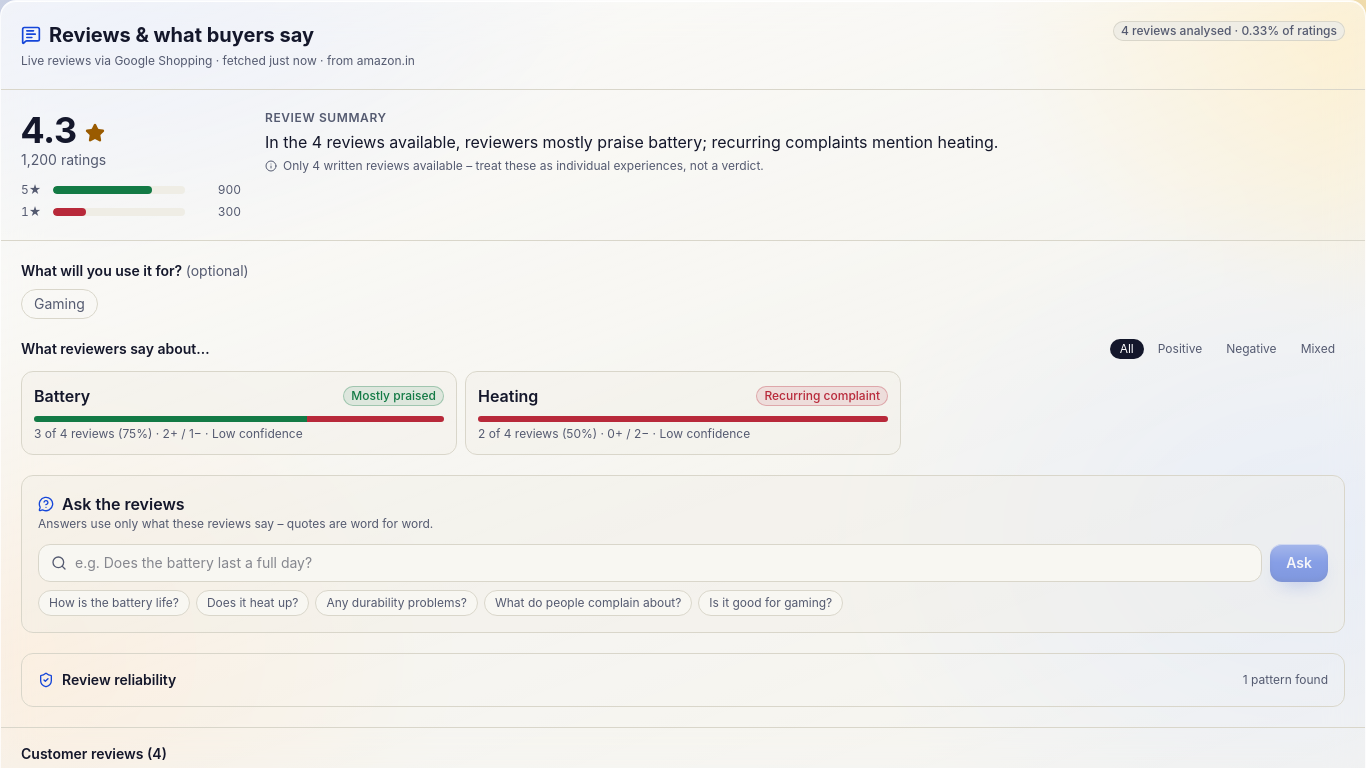
Test: ReviewsSection › puts use-case aspects first with the reason, without hiding the rest
Click the radio button labelled "Gaming" at (59, 304), box [21,289,98,319]
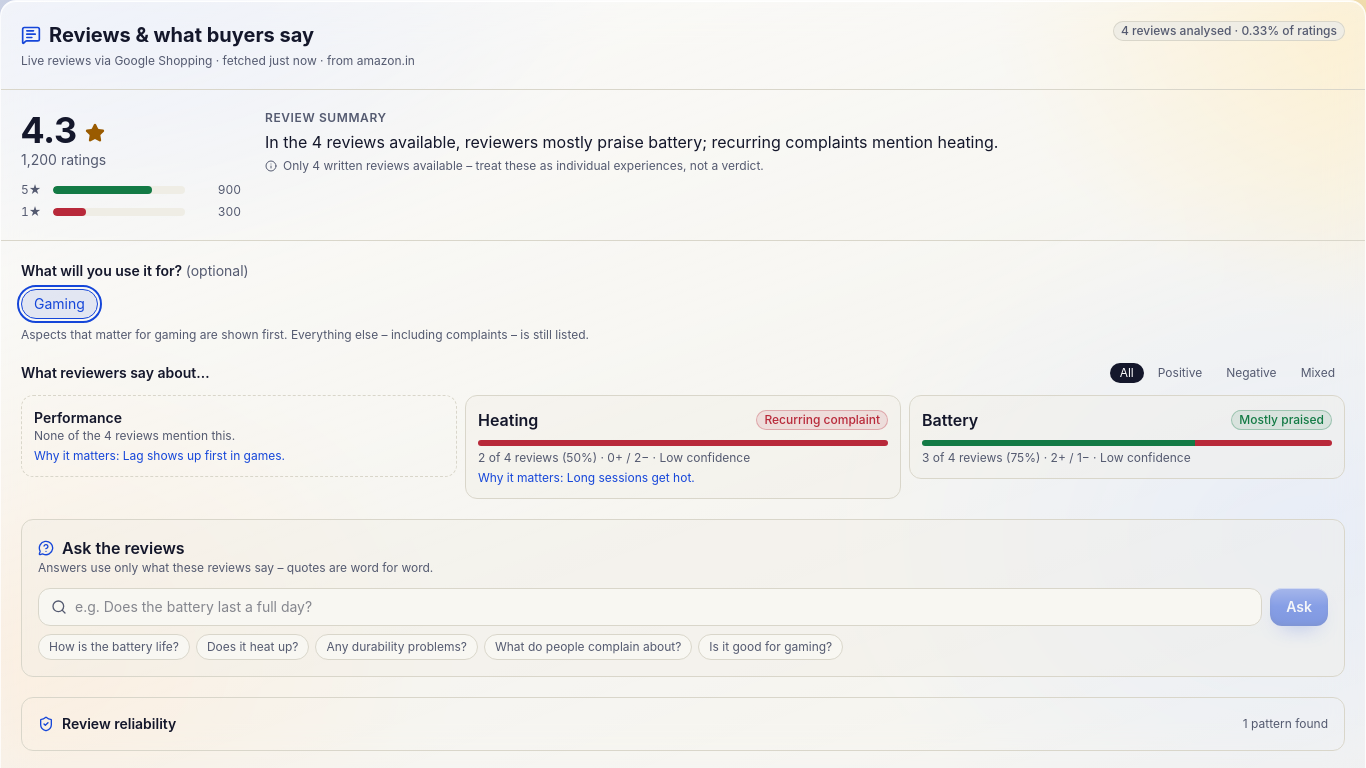
Expected: the list item that starts with "Performance" is shown, [34,409,122,426]
Expected: the list item that starts with "Performance" shows "None of the 4 reviews mention this.", [21,395,457,499]
Expected: the list item that starts with "Heating" shows "Why it matters: Long sessions get hot.", [465,395,901,499]
